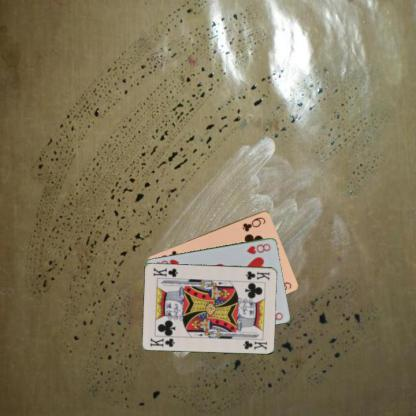6c: (240, 214, 267, 233)
8h: (244, 241, 272, 255)
Kc: (148, 335, 176, 348), (243, 269, 271, 281)
